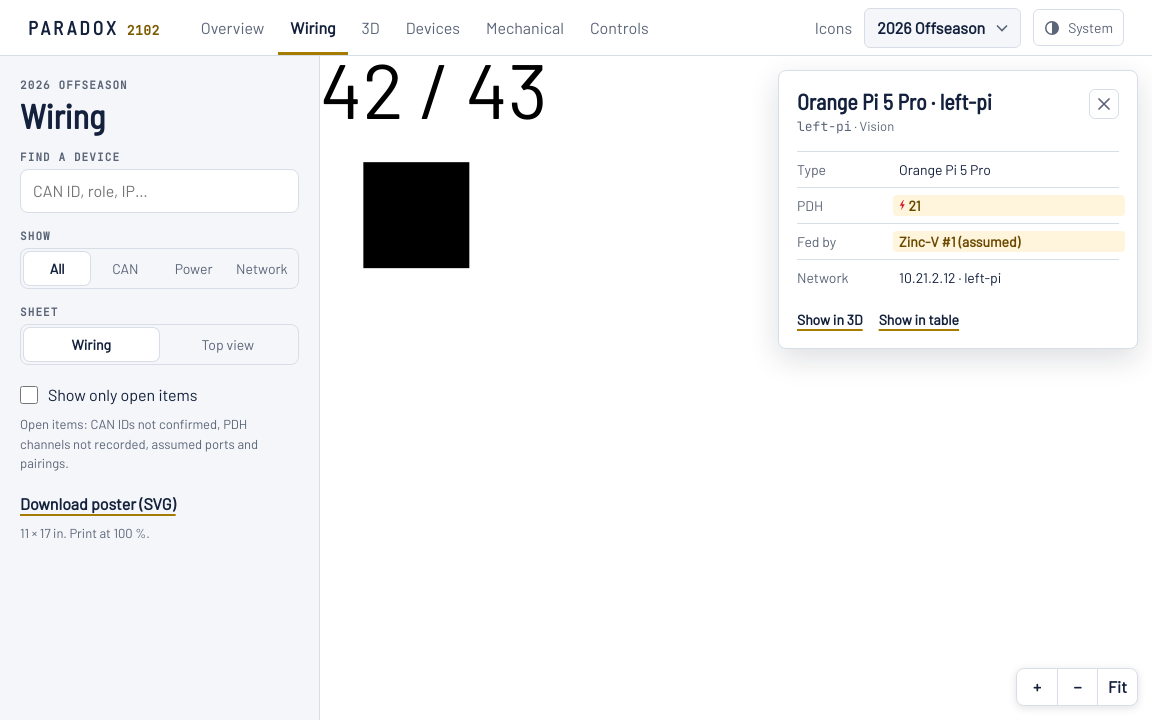
Test: choosing a view writes the hash and keeps the device
Click the radio button labelled "Network". click: click(262, 269)
box: 236,260 -> 288,277
(page scrolled)
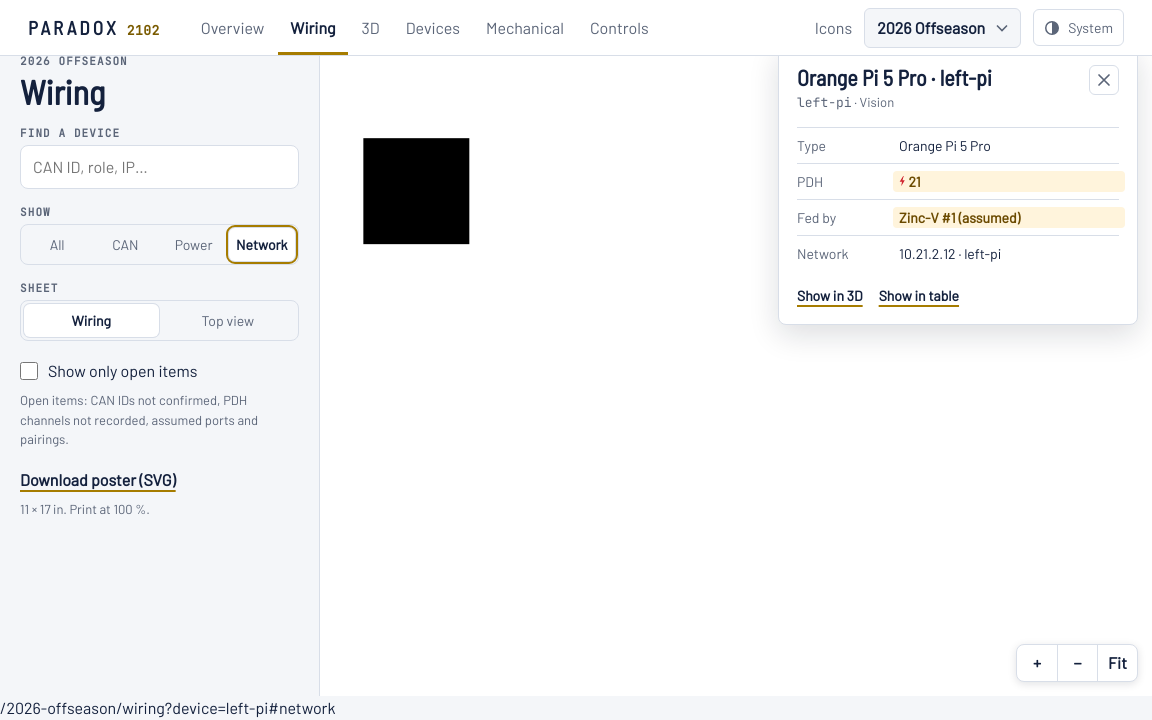
Now the text with test id "where" reads "/2026-offseason/wiring?device=left-pi#network", box 0,698 -> 336,717
